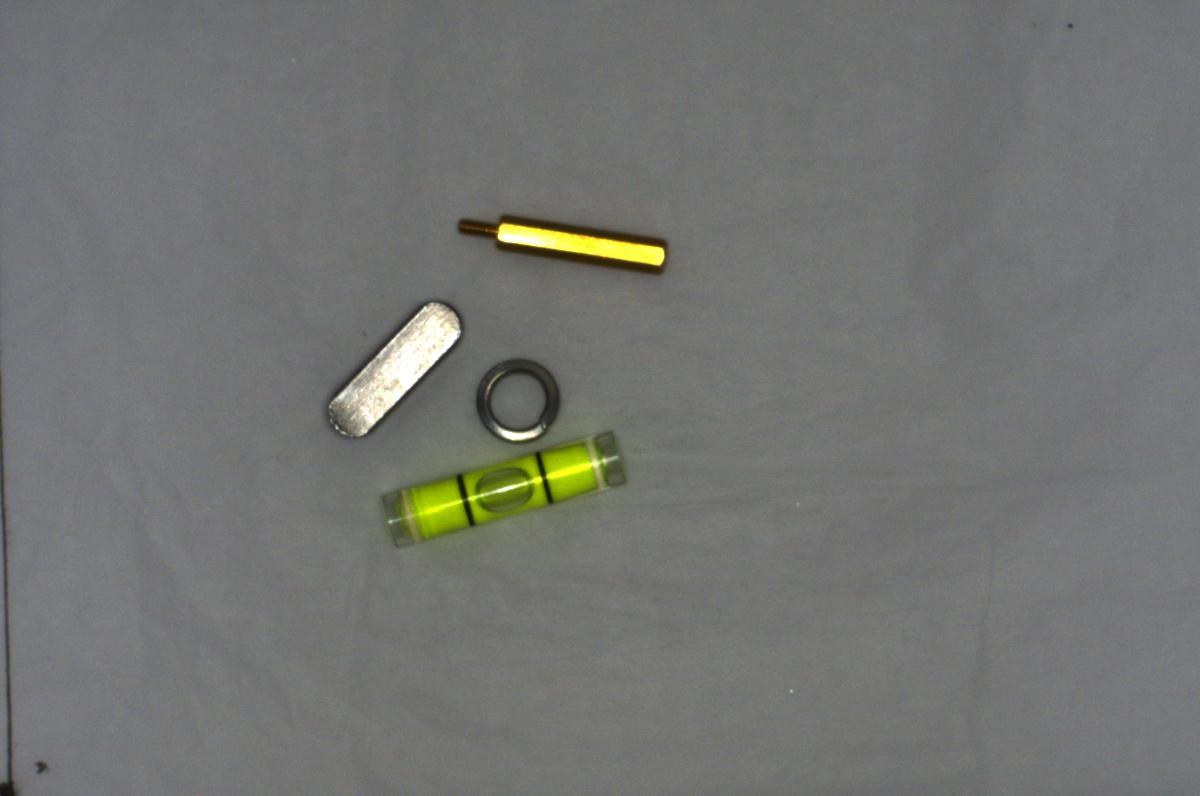Hexagon pillar: (446, 207, 680, 279)
Horizontal bubble: (373, 427, 638, 552)
Keybar: (302, 292, 466, 440)
Spring washer: (471, 345, 561, 440)
